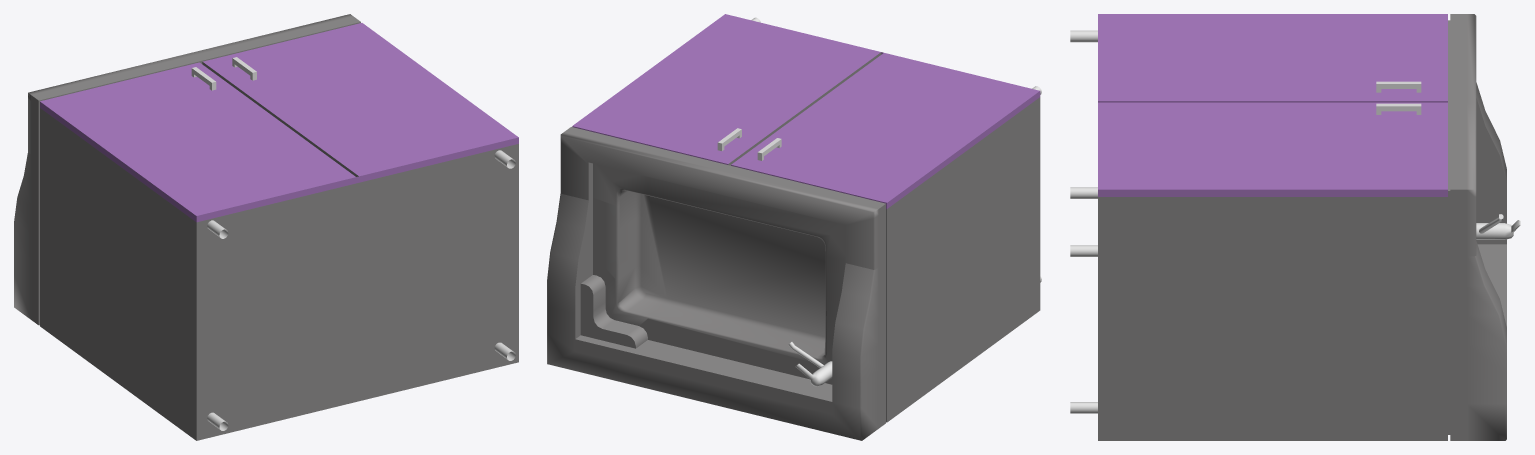
The picture shows the model from 3 angles, left to right: view 1: azimuth 30°, elevation 25°; view 2: azimuth 150°, elevation 25°; view 3: azimuth 270°, elevation 25°; orthographic projection. The views are drawn at different scales.
Visible parts, largest first — view 1: Cube; view 2: Cube; view 3: Cube.
Boxes of the visible parts, x1,y1,x2,y2 form: Cube: (14, 14, 518, 440); Cube: (547, 14, 1041, 440); Cube: (1070, 14, 1520, 440).
Bounding box in the file's own units: 90 × 62.1 × 97.47.
